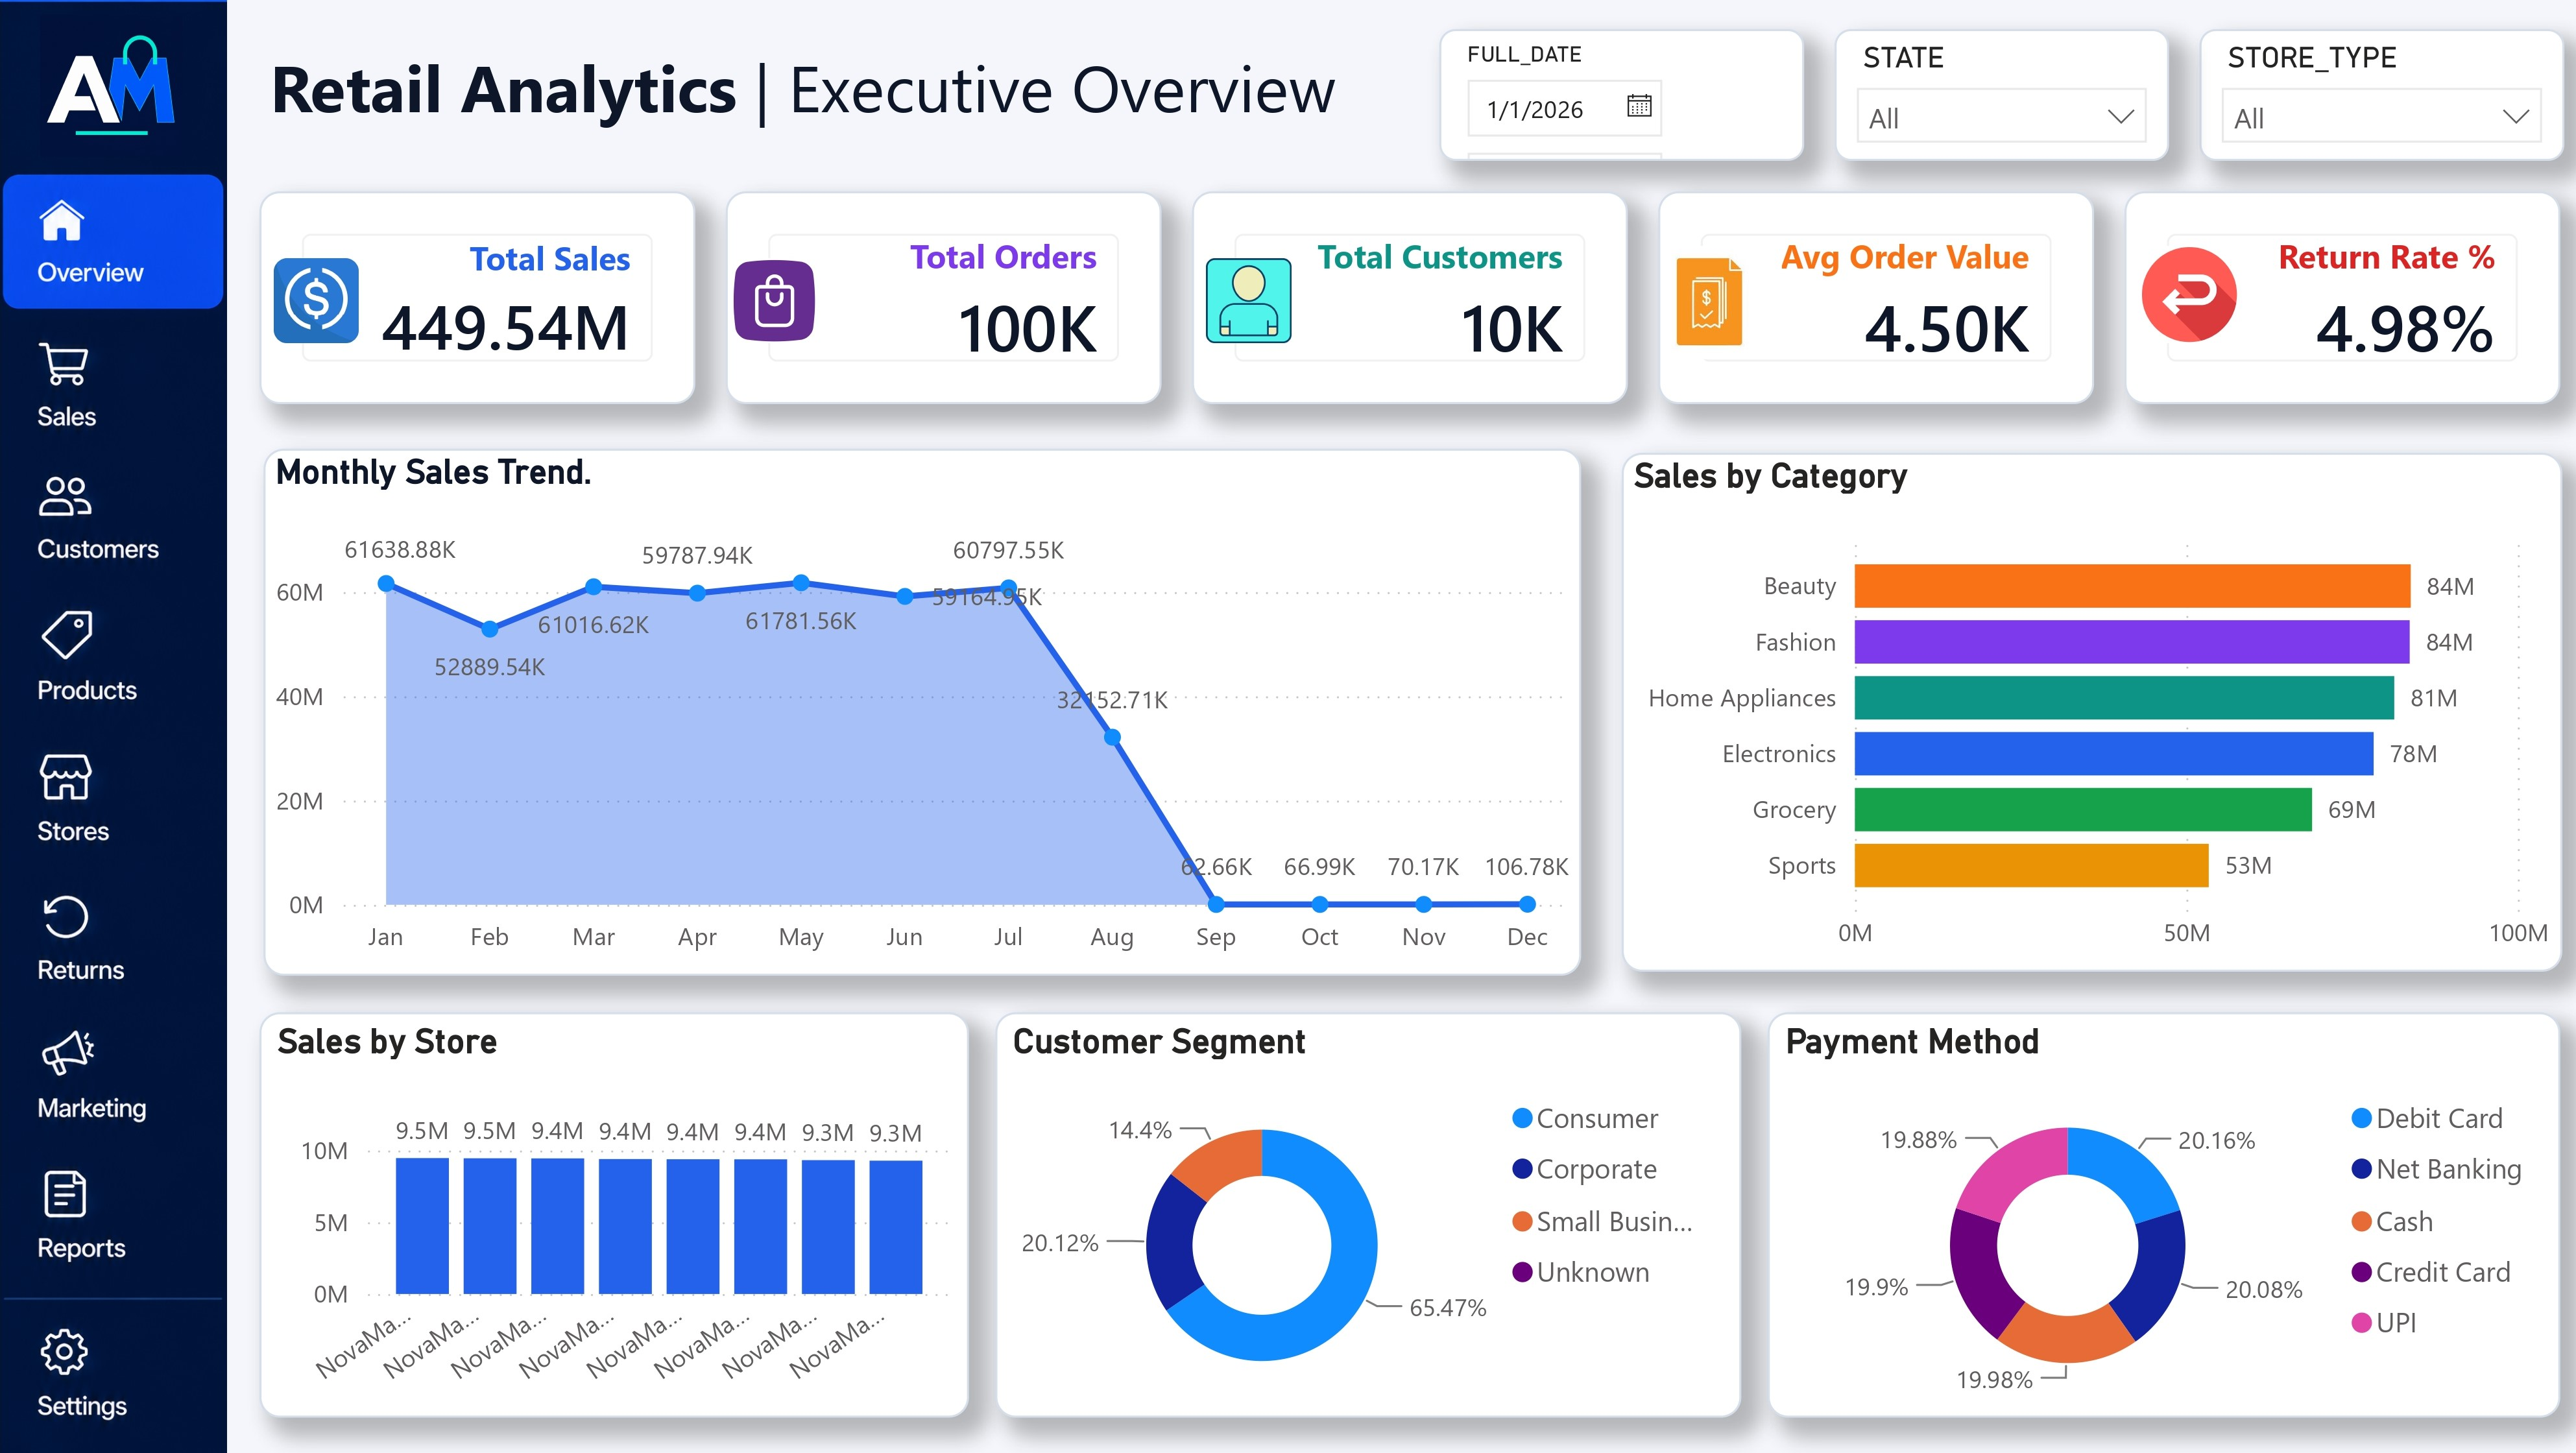

The dashboard page shown, as its layout file describes it:
{"tool":"powerbi","page":{"name":"Executive Overview","canvas":[1280,720],"ordinal":0},"visuals":[{"type":"shape","box":[0,0,105,720],"z":0},{"type":"textbox","box":[128,16,560,64],"z":1000},{"type":"slicer","fields":{"Values":["DIM_DATE.FULL_DATE"]},"box":[710,15,180,65],"z":2000},{"type":"slicer","title":"All State","fields":{"Values":["DIM_STORE.STORE_TYPE"]},"box":[1085,15,180,65],"z":3000},{"type":"slicer","title":"All State","fields":{"Values":["DIM_STORE.STATE"]},"box":[905,15,165,65],"z":4000},{"type":"cardVisual","fields":{"Data":["_Measures.Total Sales"]},"box":[128,95,215,105],"z":5000},{"type":"cardVisual","fields":{"Data":["_Measures.Total Orders"]},"box":[358,95,215,105],"z":6000},{"type":"cardVisual","fields":{"Data":["_Measures.Total Customers"]},"box":[588,95,215,105],"z":7000},{"type":"cardVisual","fields":{"Data":["_Measures.Average Order Value"]},"box":[818,95,215,105],"z":8000},{"type":"cardVisual","fields":{"Data":["_Measures.Return Rate %"]},"box":[1048,95,215,105],"z":9000},{"type":"image","box":[135,128,42,42],"z":10000},{"type":"image","box":[361,128,42,42],"z":11000},{"type":"image","box":[595,128,42,42],"z":12000},{"type":"image","box":[1056,122,48,48],"z":13000},{"type":"image","box":[816,122,56,56],"z":14000},{"type":"areaChart","title":"Monthly Sales Trend.","fields":{"Category":["DIM_DATE.MONTH_NAME"],"Y":["_Measures.Sales Trend"]},"box":[130,222,650,260],"z":15000},{"type":"clusteredBarChart","title":"Sales by Category","fields":{"Category":["DIM_PRODUCT.CATEGORY"],"Y":["_Measures.Total Sales"]},"box":[800,224,464,256],"z":16000},{"type":"clusteredColumnChart","title":"Sales by Store","fields":{"Category":["DIM_STORE.STORE_NAME"],"Y":["_Measures.Total Sales"]},"box":[128,500,350,200],"z":17000},{"type":"donutChart","title":"Customer Segment","fields":{"Y":["_Measures.Total Customers"],"Category":["DIM_CUSTOMER.CUSTOMER_SEGMENT"]},"box":[491,500,368,200],"z":18000},{"type":"donutChart","title":"Payment Method","fields":{"Category":["FACT_ORDERS.PAYMENT_METHOD"],"Y":["_Measures.Total Orders"]},"box":[872,500,391,200],"z":19000},{"type":"image","box":[0,0,112,720],"z":20000},{"type":"image","box":[4,8,102,70],"z":21000}]}

Visuals, with their boxes on the page's 1280x720 design canvas (x1, y1, x2, y2). These are canvas units, not pixel positions in the 2576x1453 screenshot, which may show the page scaled, cropped or inside an application window:
shape: region(0, 0, 105, 720)
textbox: region(128, 16, 688, 80)
slicer - DIM_DATE.FULL_DATE: region(710, 15, 890, 80)
"All State" slicer: region(1085, 15, 1265, 80)
"All State" slicer: region(905, 15, 1070, 80)
cardVisual - _Measures.Total Sales: region(128, 95, 343, 200)
cardVisual - _Measures.Total Orders: region(358, 95, 573, 200)
cardVisual - _Measures.Total Customers: region(588, 95, 803, 200)
cardVisual - _Measures.Average Order Value: region(818, 95, 1033, 200)
cardVisual - _Measures.Return Rate %: region(1048, 95, 1263, 200)
image: region(135, 128, 177, 170)
image: region(361, 128, 403, 170)
image: region(595, 128, 637, 170)
image: region(1056, 122, 1104, 170)
image: region(816, 122, 872, 178)
"Monthly Sales Trend." areaChart: region(130, 222, 780, 482)
"Sales by Category" clusteredBarChart: region(800, 224, 1264, 480)
"Sales by Store" clusteredColumnChart: region(128, 500, 478, 700)
"Customer Segment" donutChart: region(491, 500, 859, 700)
"Payment Method" donutChart: region(872, 500, 1263, 700)
image: region(0, 0, 112, 720)
image: region(4, 8, 106, 78)
